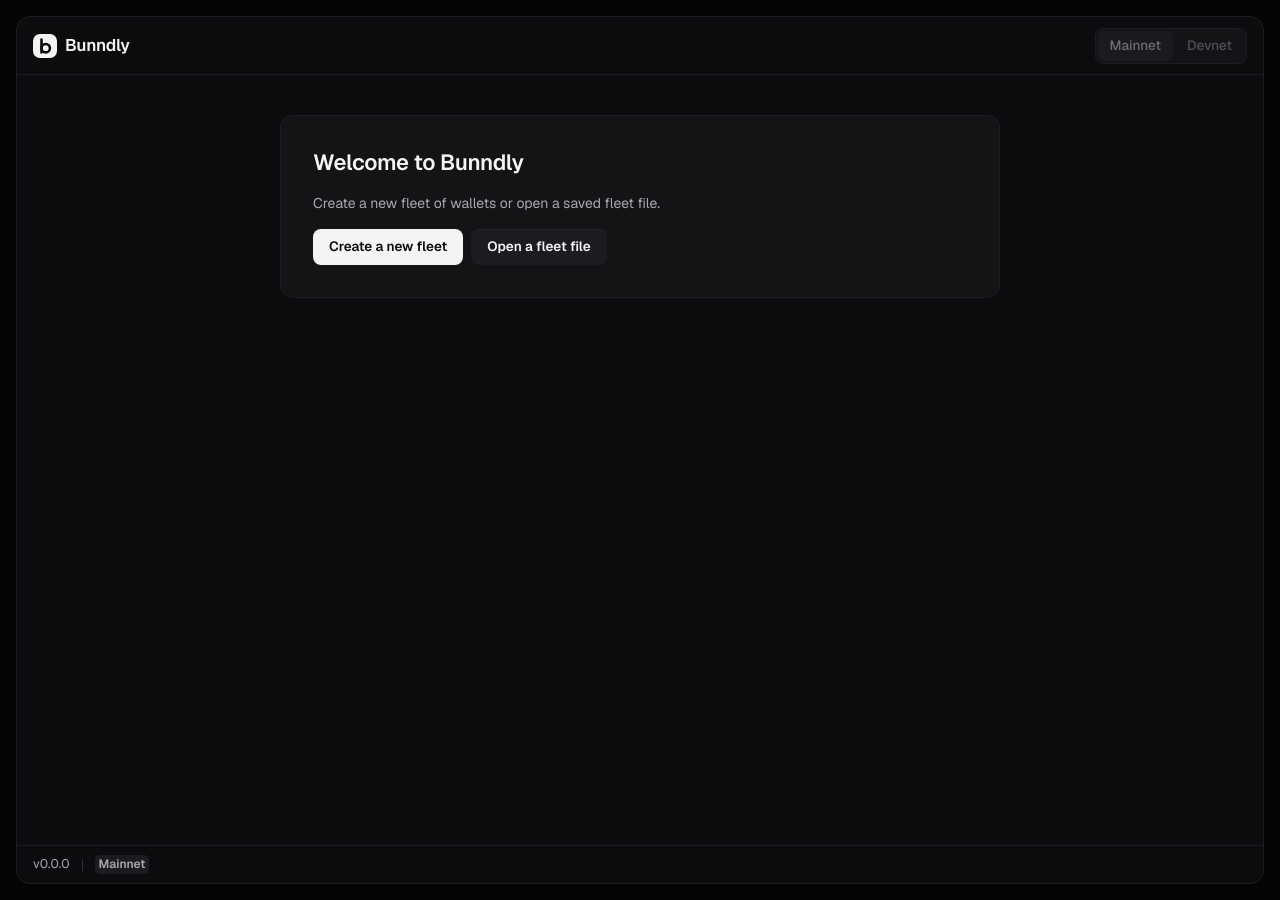
preview without the password › a cancelled pick shows an English message and stays on the pick step
Click the button "Open a fleet file".
click(539, 247)  # box [471,229,607,265]
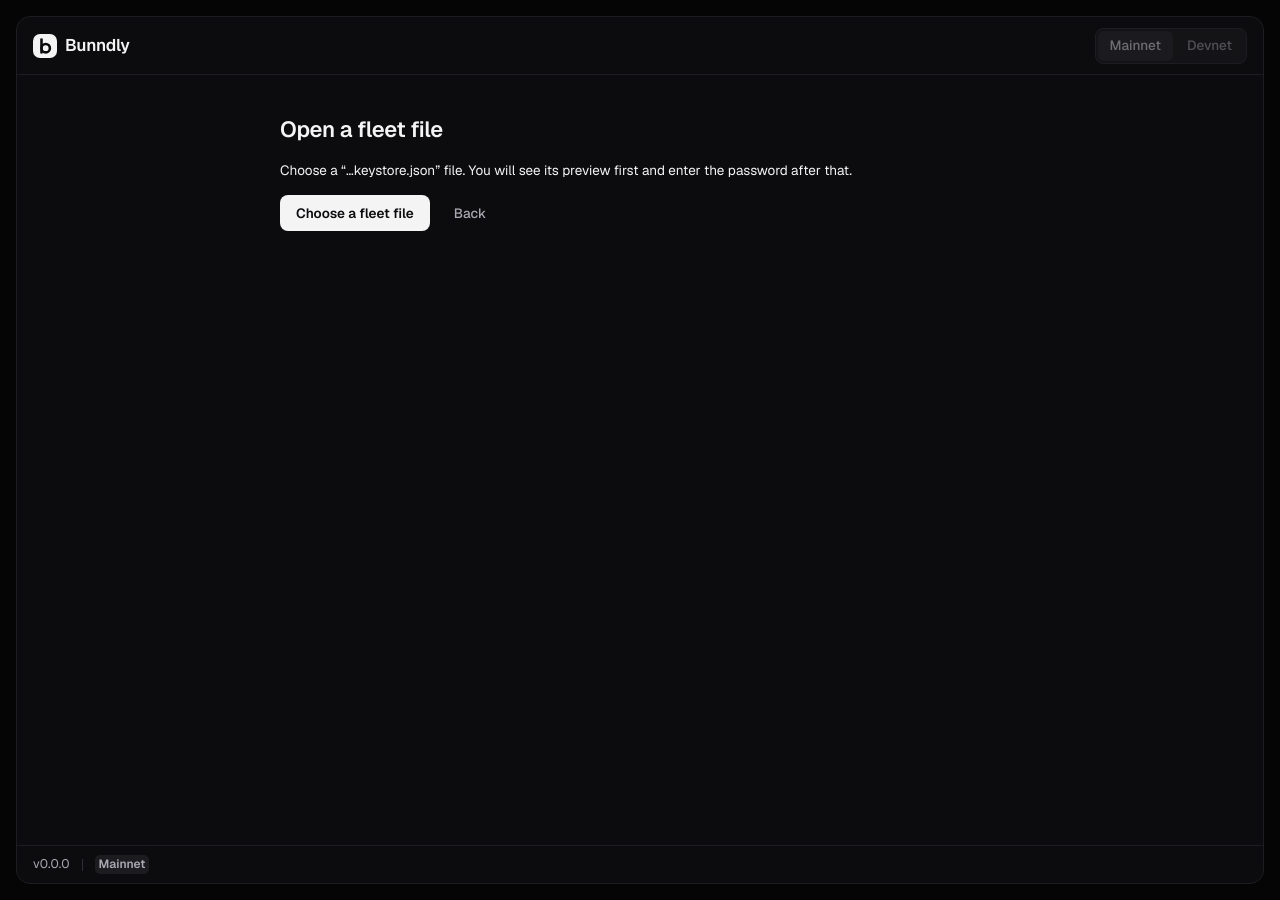
Click the button "Choose a fleet file".
click(355, 213)  # box [280,195,430,231]
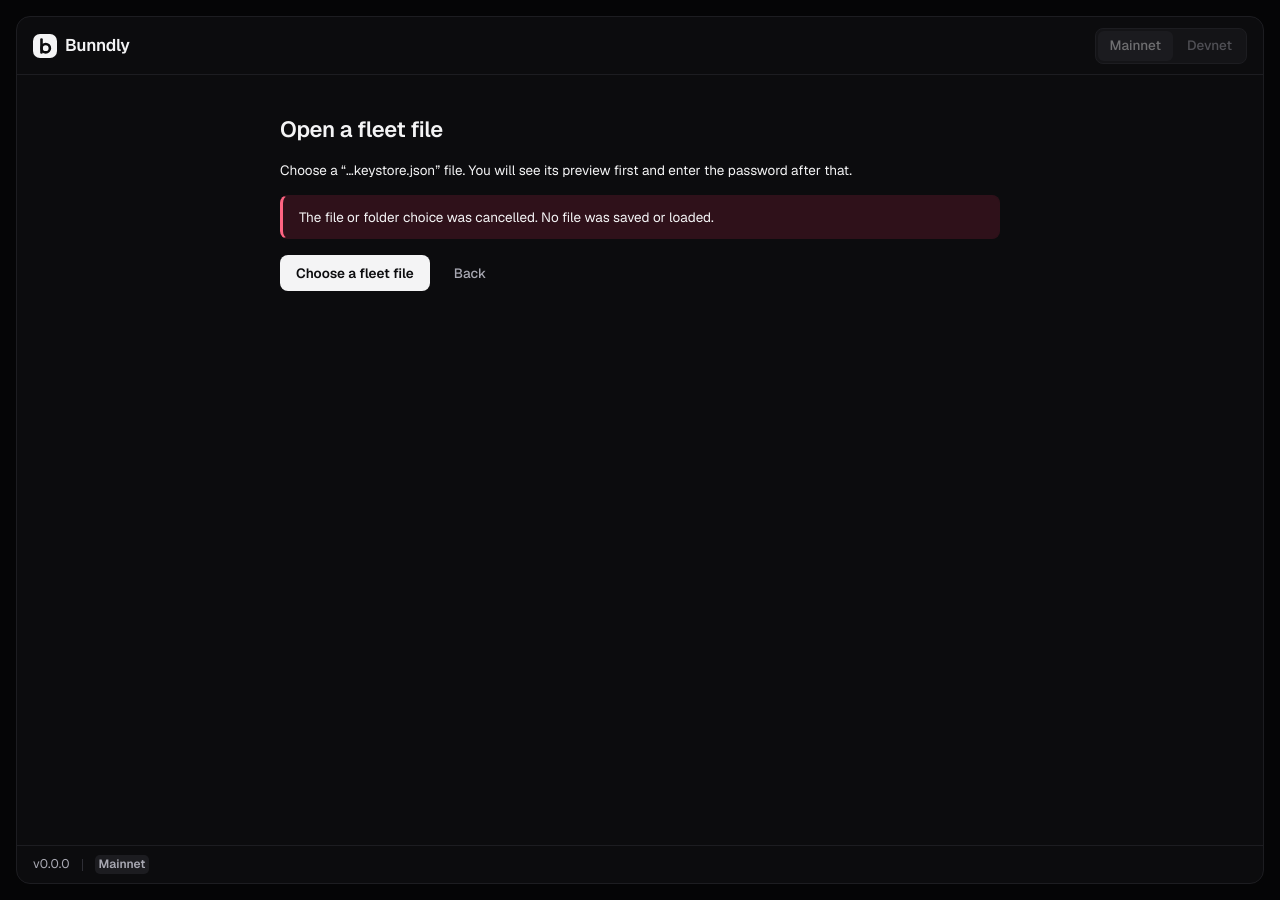
Result: the message reads "The file or folder choice was cancelled. No file was saved or loaded." at [299,208,714,226]
